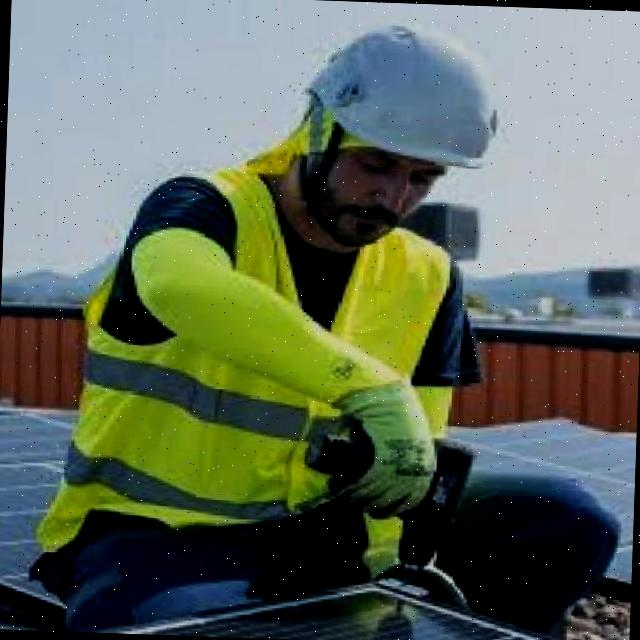helmet: (288, 18, 507, 173)
vest: (33, 162, 470, 610)
